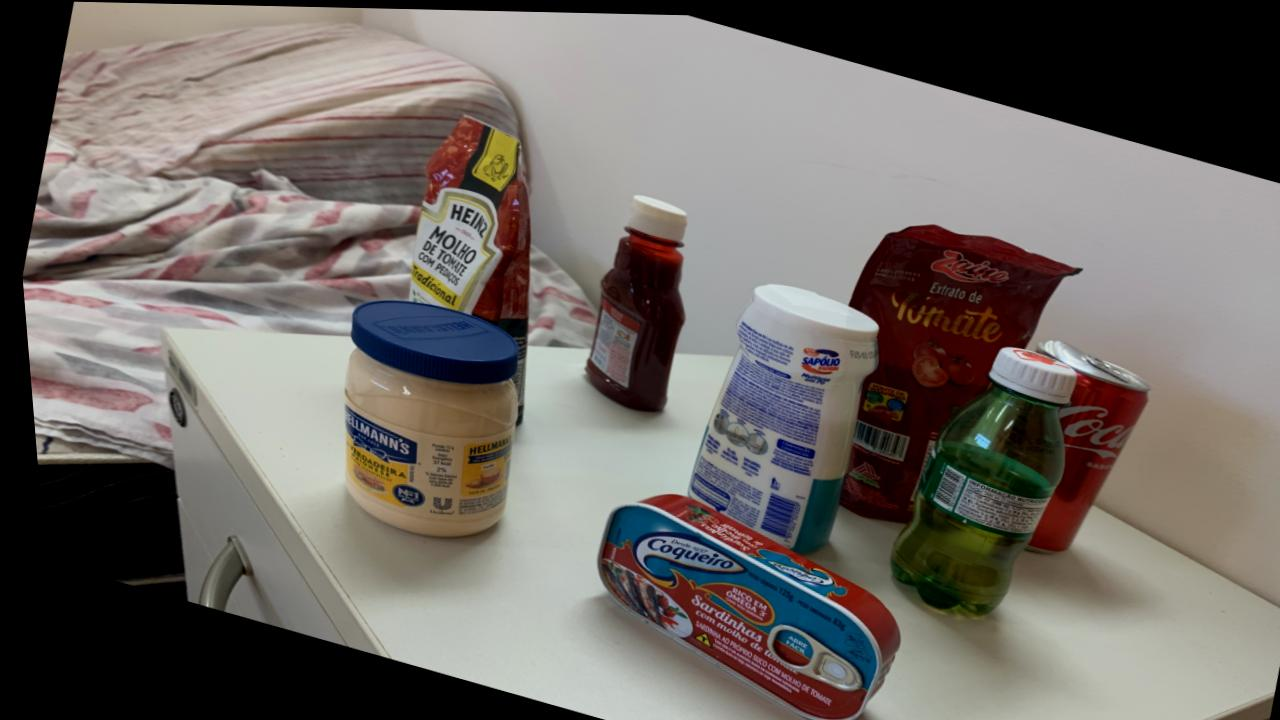Cleaner-Cleanup_Items: (680, 283, 872, 550)
Coke-Drinks: (1020, 335, 1144, 548)
Guarana-Drinks: (881, 342, 1070, 611)
Ketchup-Pantry_Items: (578, 193, 683, 409)
Mayonnaise-Pantry_Items: (337, 299, 513, 535)
Tomato_Sauce-Pantry_Items: (832, 220, 1077, 520), (404, 114, 528, 417)
Tuna_Can-Pantry_Items: (588, 491, 890, 720)
